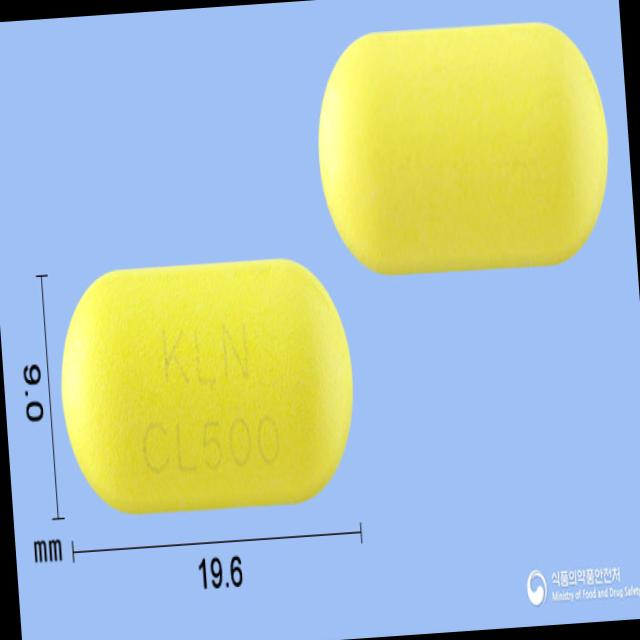New Clato Tab-500mg: (52, 252, 362, 519), (309, 12, 617, 277)
